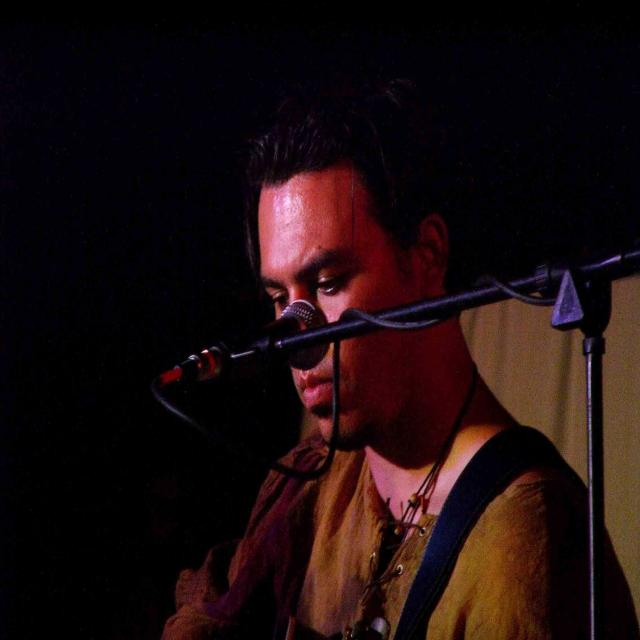microphone: (155, 307, 327, 428)
